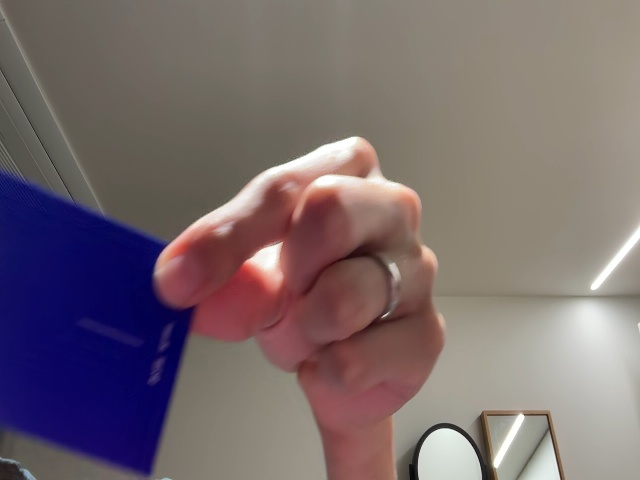card: (1, 168, 213, 480)
